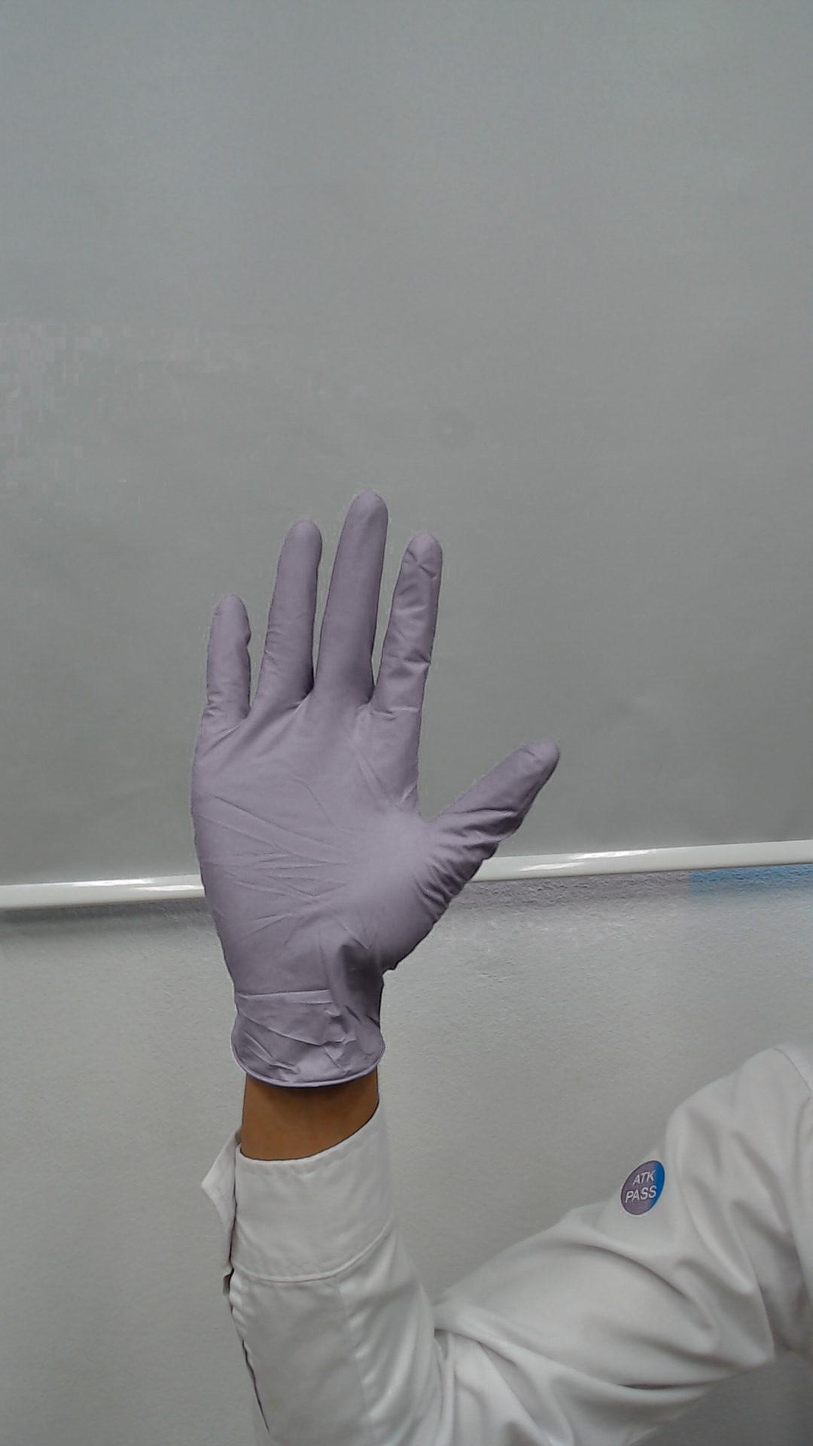gloves: (156, 486, 550, 1043)
